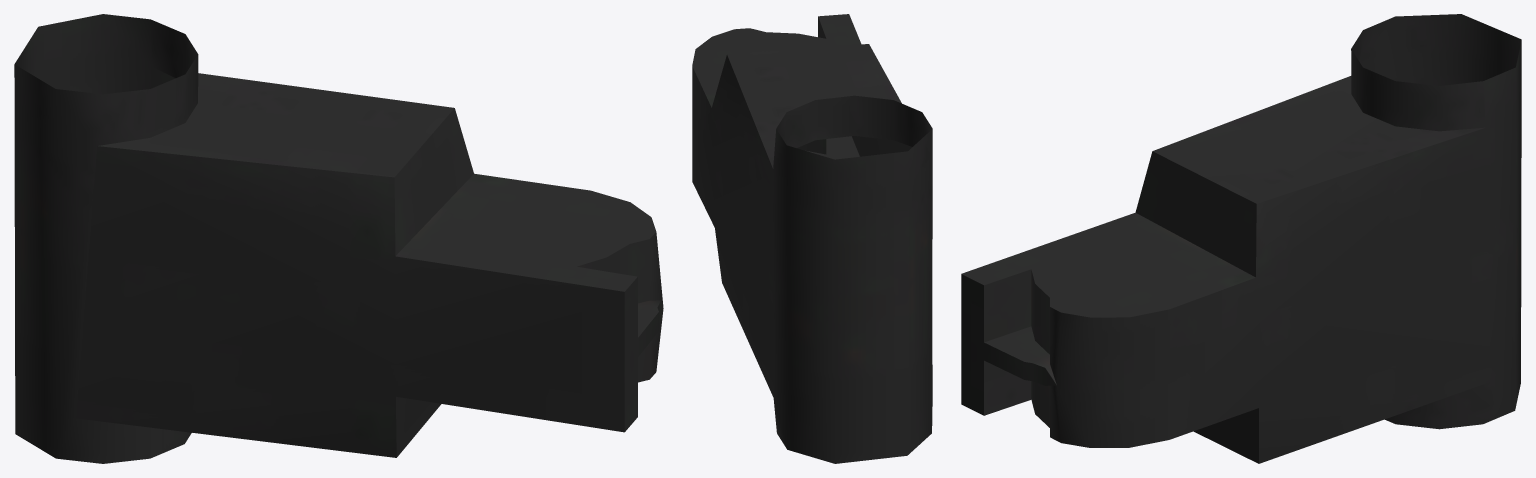
File: right_gripper_6.dae
3 views of the same model, side by side, from view 1: azimuth 30°, elevation 25°; view 2: azimuth 150°, elevation 25°; view 3: azimuth 270°, elevation 25° (orthographic). The views are drawn at different scales.
Parts seen in each view (by area): view 1: right_gripper_6; view 2: right_gripper_6; view 3: right_gripper_6.
Boxes of the visible parts, x1,y1,x2,y2 form: right_gripper_6: (14,14,663,463); right_gripper_6: (692,14,932,463); right_gripper_6: (961,14,1521,463).
Size of the model in its own units: 0.0241 by 0.0288 by 0.0195.
